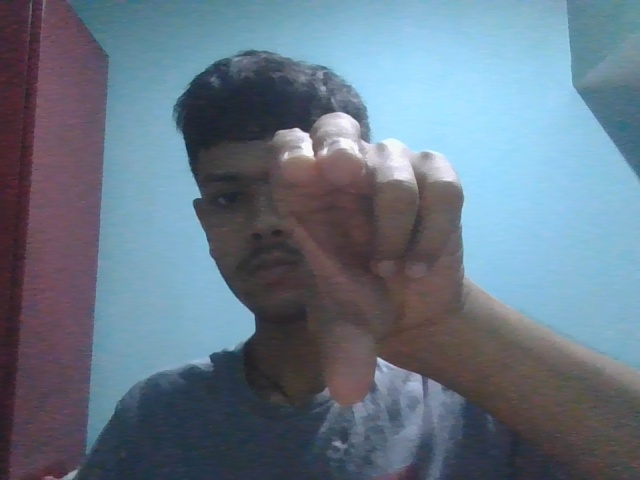no: (260, 94, 504, 427)
